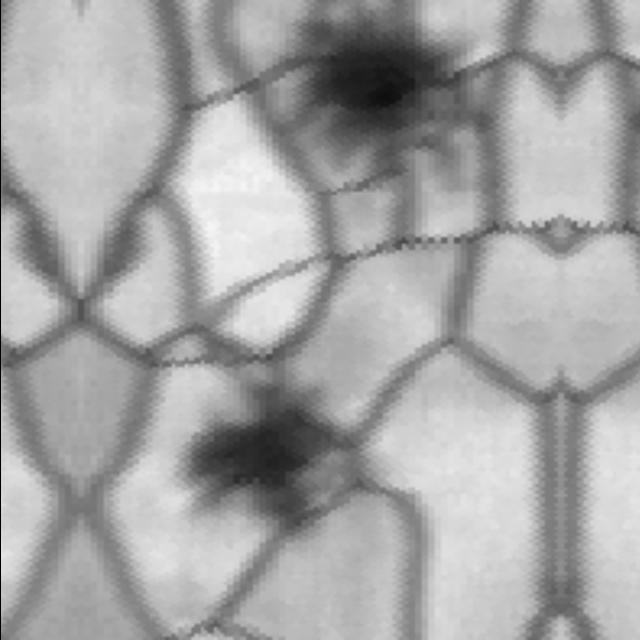good_void: (124, 317, 443, 610), (2, 193, 81, 298), (80, 194, 157, 298)
